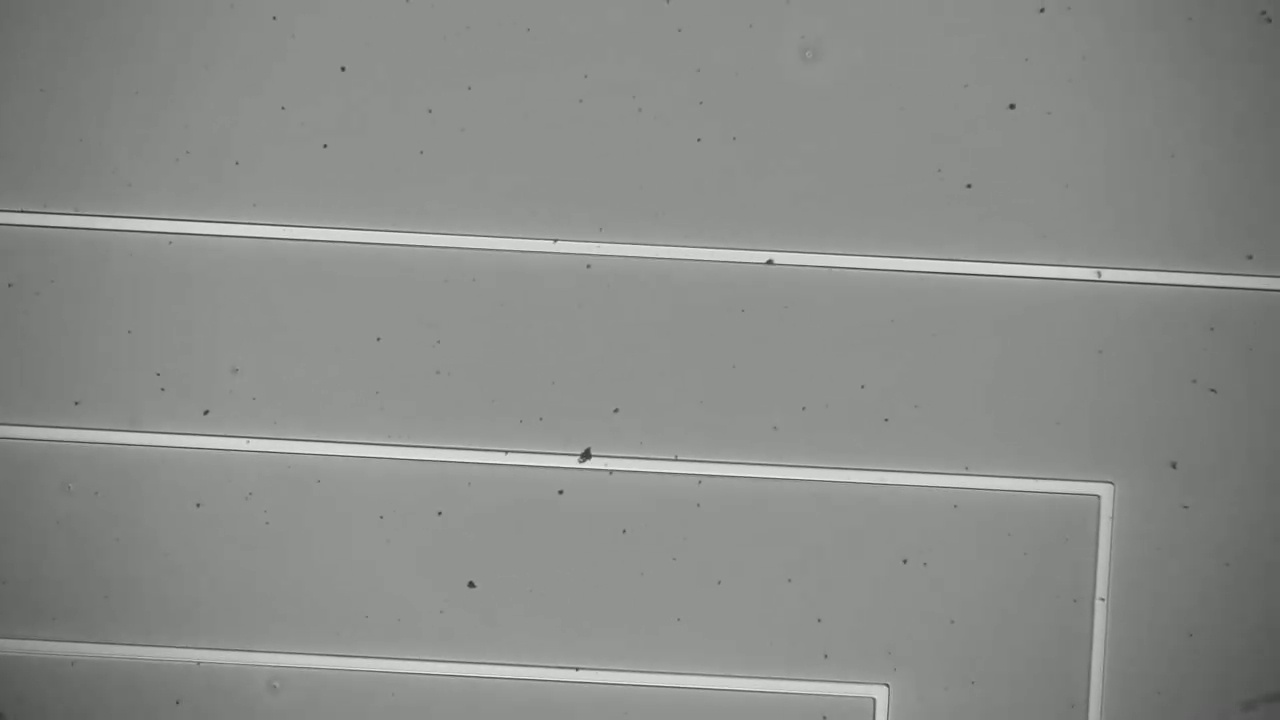stains_enbedded: (572, 439, 596, 486)
